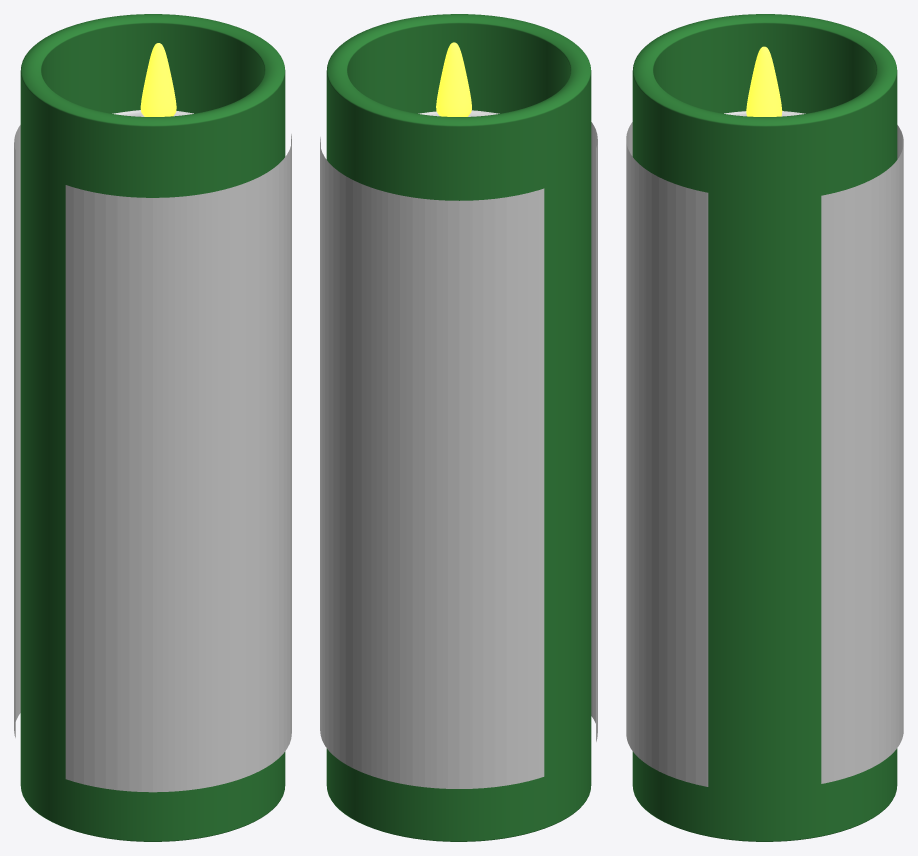
File: newGlassCandle1.glb
The picture shows the model from 3 angles, left to right: view 1: azimuth 30°, elevation 25°; view 2: azimuth 150°, elevation 25°; view 3: azimuth 270°, elevation 25°; orthographic projection.
Visible parts, largest first — view 1: Label1, glass, Label2, flame; view 2: Label2, glass, Label1, flame; view 3: glass, Label1, Label2, flame.
Part boxes in pixels (box(x1,y1,x2,y2)): Label1: box(65, 134, 291, 792); glass: box(20, 14, 285, 841); Label2: box(14, 125, 20, 737); flame: box(140, 43, 176, 116); Label2: box(320, 137, 544, 788); glass: box(326, 14, 591, 841); Label1: box(591, 122, 597, 741); flame: box(436, 42, 471, 116); glass: box(632, 14, 897, 841); Label1: box(626, 122, 708, 786); Label2: box(821, 125, 903, 783); flame: box(746, 46, 782, 116).
Bounding box in the file's own units: 0.04 × 0.1238 × 0.042.
5 materials, 1 textured.
